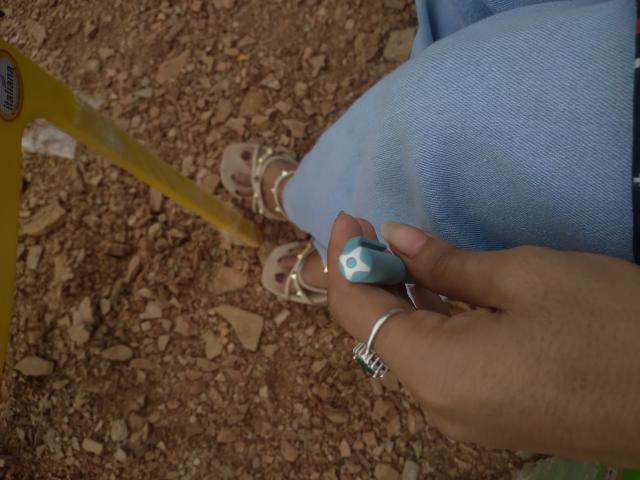PEN: (336, 229, 414, 299)
